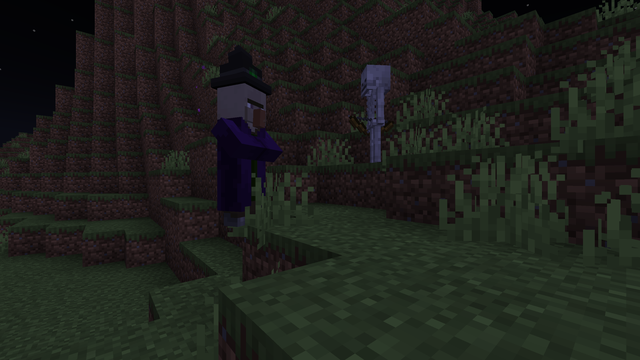sorcieres: (213, 73, 271, 228)
squelettes: (355, 61, 394, 162)
